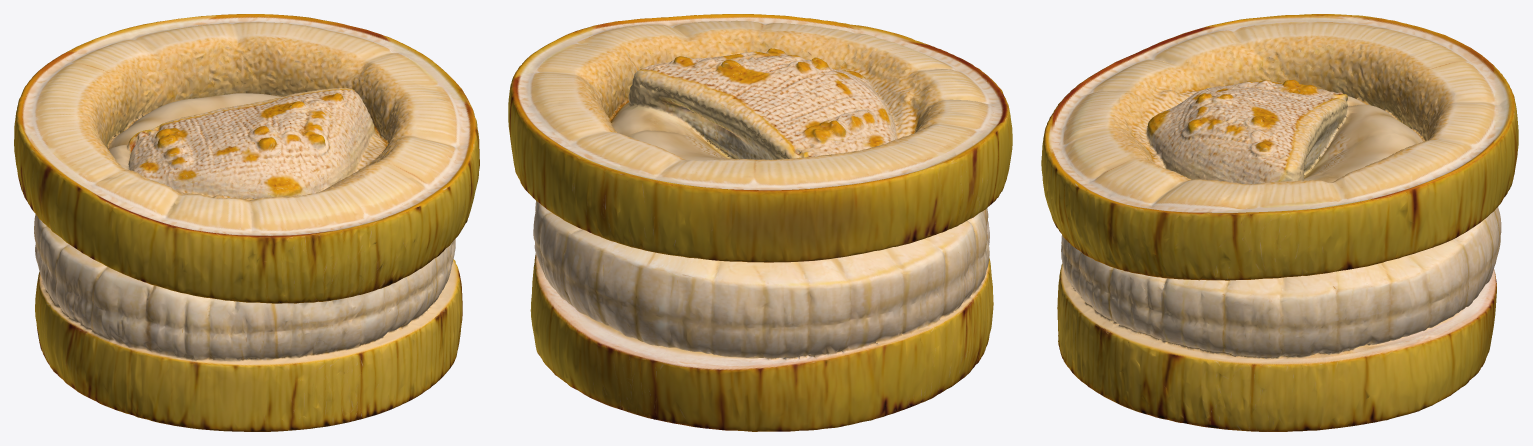
Rendered from raw.glb.
3 renders of one model, left to right at view 1: azimuth 30°, elevation 25°; view 2: azimuth 150°, elevation 25°; view 3: azimuth 270°, elevation 25°, orthographic. The views are drawn at different scales.
Parts seen in each view (by area): view 1: Mesh_0; view 2: Mesh_0; view 3: Mesh_0.
Part boxes in pixels (x1,y1,x2,y2): Mesh_0: [14, 14, 479, 431]; Mesh_0: [508, 14, 1012, 431]; Mesh_0: [1041, 14, 1518, 431].
Size of the model in its own units: 1.91 by 1.08 by 1.91.
1 material, 1 textured.
